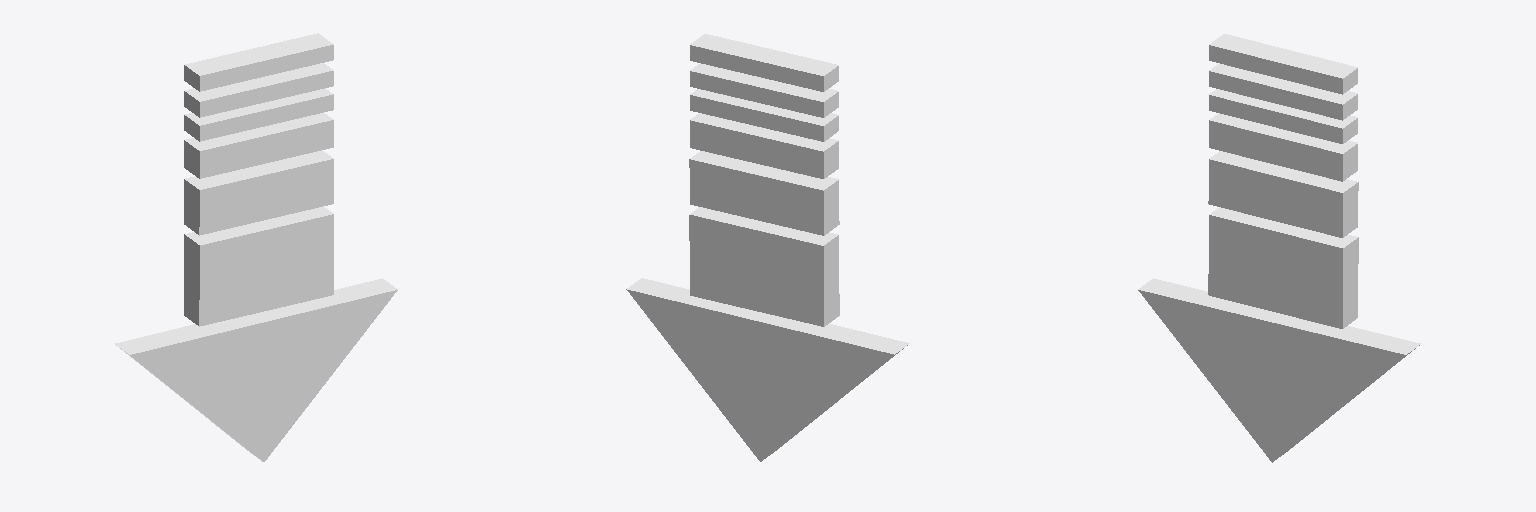
File: arrow.obj
3 views of the same model, side by side, from view 1: azimuth 30°, elevation 25°; view 2: azimuth 150°, elevation 25°; view 3: azimuth 330°, elevation 25° (orthographic).
Parts seen in each view (by area): view 1: Box1, Box, Box2, Box3, Box6, Box5, Box4; view 2: Box1, Box, Box2, Box3, Box6, Box5, Box4; view 3: Box1, Box, Box2, Box3, Box6, Box5, Box4.
Part boxes in pixels (bbox=[...]): Box1: bbox=[115, 278, 397, 461]; Box: bbox=[184, 206, 333, 326]; Box2: bbox=[184, 150, 333, 235]; Box3: bbox=[184, 113, 333, 178]; Box6: bbox=[184, 33, 333, 91]; Box5: bbox=[184, 63, 333, 117]; Box4: bbox=[184, 88, 333, 141]; Box1: bbox=[626, 278, 909, 461]; Box: bbox=[689, 207, 839, 326]; Box2: bbox=[689, 151, 839, 235]; Box3: bbox=[690, 113, 838, 178]; Box6: bbox=[690, 34, 838, 91]; Box5: bbox=[690, 63, 838, 117]; Box4: bbox=[690, 89, 838, 141]; Box1: bbox=[1138, 278, 1420, 462]; Box: bbox=[1208, 207, 1358, 328]; Box2: bbox=[1208, 151, 1358, 237]; Box3: bbox=[1209, 113, 1357, 181]; Box6: bbox=[1209, 34, 1357, 94]; Box5: bbox=[1209, 63, 1357, 120]; Box4: bbox=[1209, 89, 1357, 143].
Size of the model in its own units: 1 by 1.43 by 0.1035.